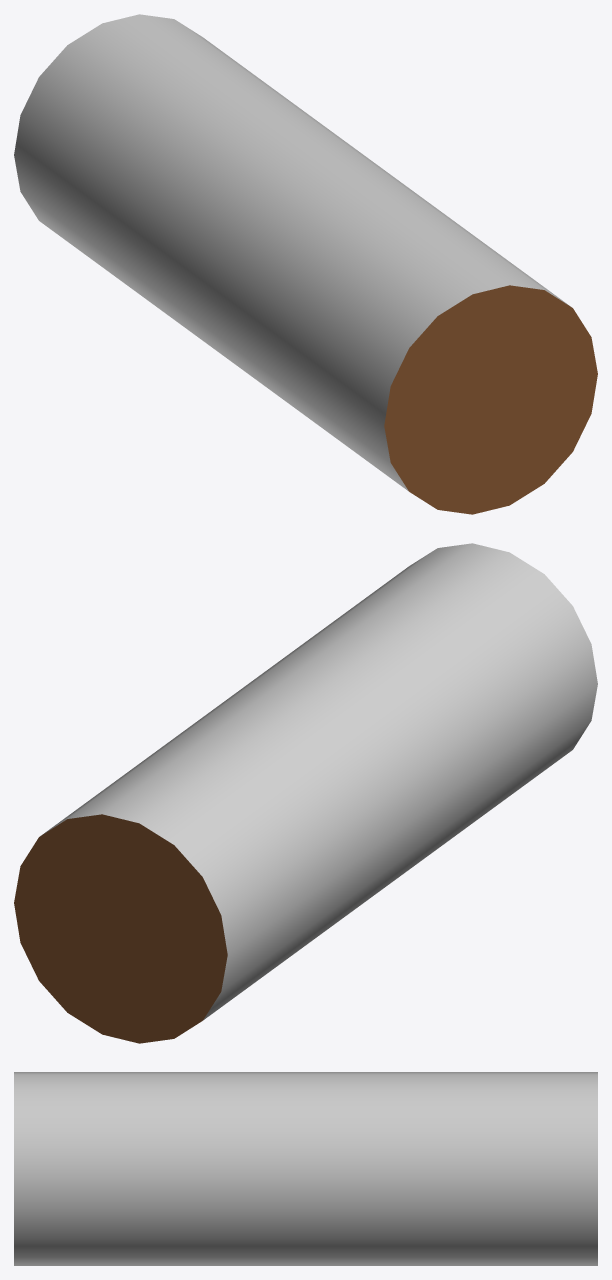
The model's file is Log.obj.
The picture shows the model from 3 angles, top to bottom: view 1: azimuth 30°, elevation 25°; view 2: azimuth 150°, elevation 25°; view 3: azimuth 270°, elevation 25°; orthographic projection. The views are drawn at different scales.
Visible parts, largest first — view 1: Log, Cylinder001; view 2: Log, Cylinder001; view 3: Log.
Boxes of the visible parts, left/top/right/bottom form: Log: left=14, top=14, right=570, bottom=491; Cylinder001: left=384, top=285, right=597, bottom=514; Log: left=41, top=543, right=597, bottom=1020; Cylinder001: left=14, top=814, right=227, bottom=1043; Log: left=14, top=1072, right=597, bottom=1265.
Bounding box in the file's own units: 2 × 1.97 × 6.
